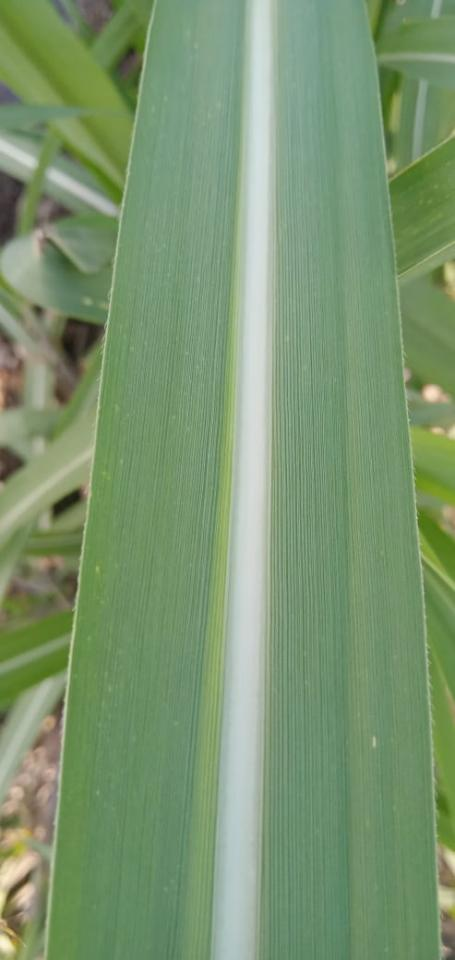Healthy: (44, 0, 247, 959), (265, 0, 438, 959)
